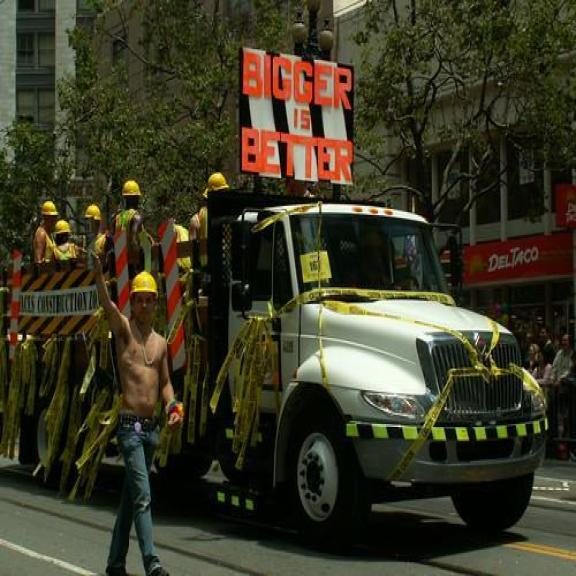safety_vest: (79, 230, 108, 255), (35, 226, 54, 261), (114, 209, 135, 233), (192, 206, 207, 236), (54, 240, 76, 256)
